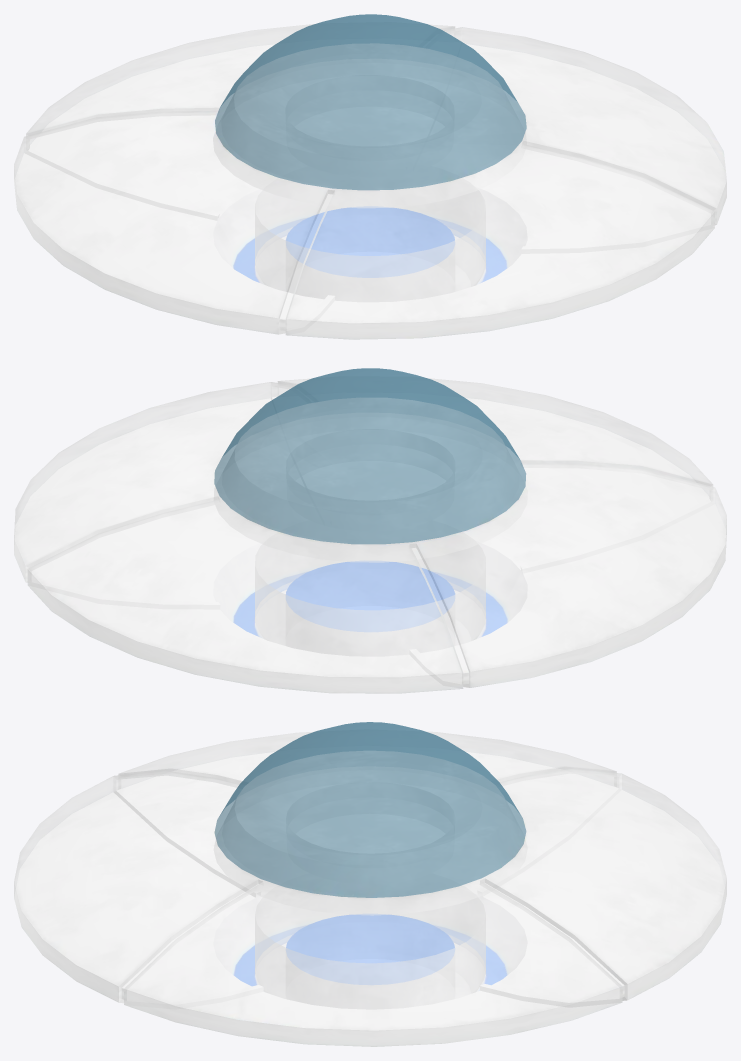
The model's file is ufo2.glb.
3 views of the same model, one above another, from view 1: azimuth 30°, elevation 25°; view 2: azimuth 150°, elevation 25°; view 3: azimuth 270°, elevation 25° (orthographic).
Parts seen in each view (by area): view 1: UFO_cockpit.002; view 2: UFO_cockpit.002; view 3: UFO_cockpit.002.
Boxes of the visible parts, <box> form: UFO_cockpit.002: <box>14,14,726,339</box>; UFO_cockpit.002: <box>14,368,726,693</box>; UFO_cockpit.002: <box>14,722,726,1046</box>.
Size of the model in its own units: 125 by 49.59 by 125.
2 materials, 2 textured.
